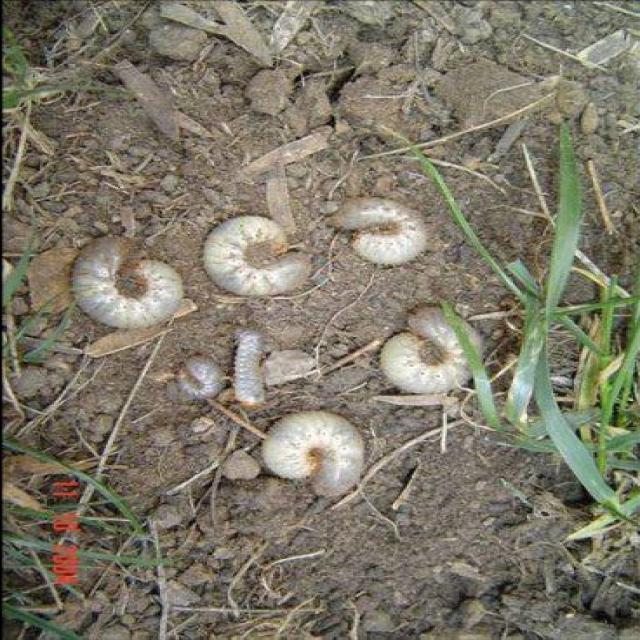grub: (376, 304, 492, 401), (263, 406, 379, 502), (77, 231, 189, 330), (211, 218, 310, 301), (340, 198, 425, 274), (232, 322, 274, 417), (180, 357, 225, 405)
